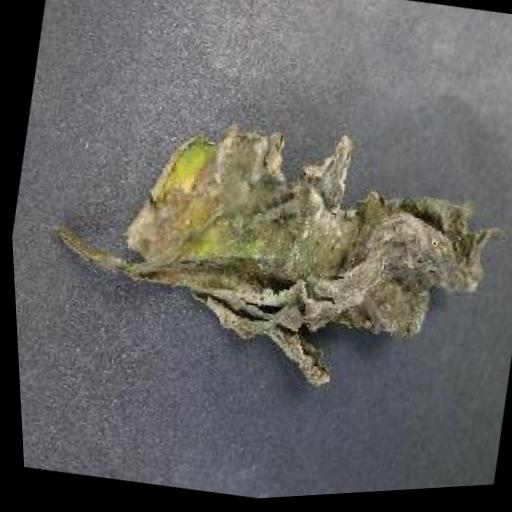Late Blight: (92, 94, 512, 434)
